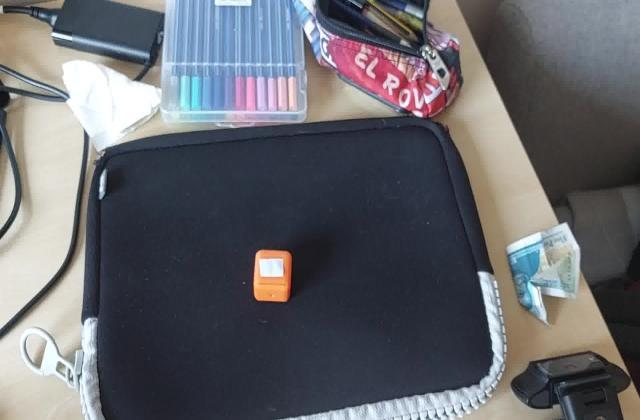sticker: (253, 250, 294, 304)
white: (257, 256, 288, 278)
